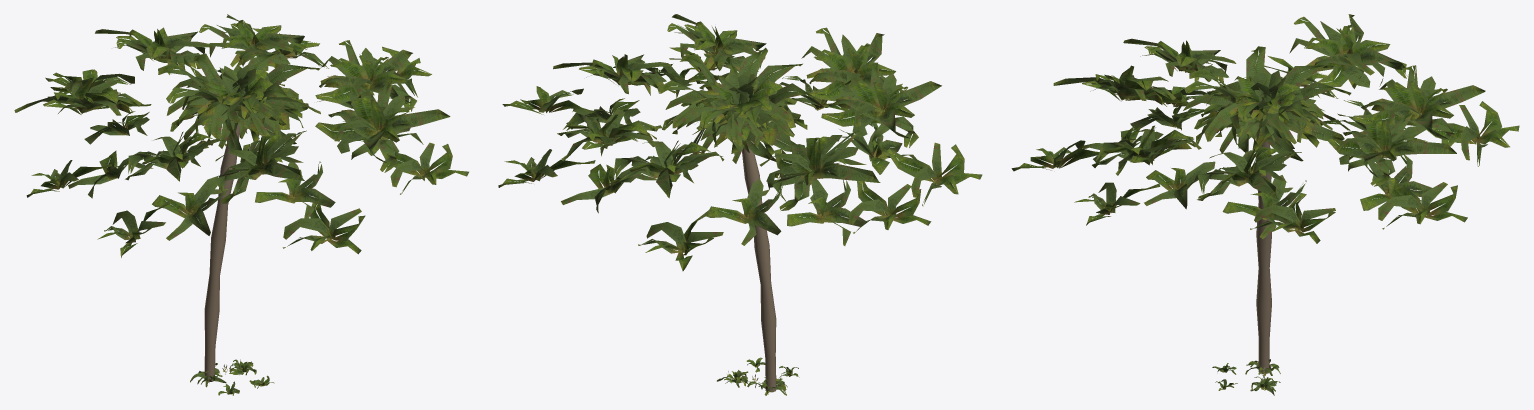
File: vegetation.glb
3 renders of one model, left to right at view 1: azimuth 30°, elevation 25°; view 2: azimuth 150°, elevation 25°; view 3: azimuth 270°, elevation 25°, orthographic. The views are drawn at different scales.
Parts seen in each view (by area): view 1: palm, fern; view 2: palm, fern; view 3: palm, fern.
Boxes of the visible parts, <box> form: palm: <box>14,14,468,381</box>; fern: <box>190,359,274,395</box>; palm: <box>498,14,982,392</box>; fern: <box>717,357,799,395</box>; palm: <box>1011,14,1519,373</box>; fern: <box>1212,359,1280,395</box>.
Size of the model in its own units: 12.13 by 8.7 by 12.77.
Materials: 4 (3 with a texture image).
